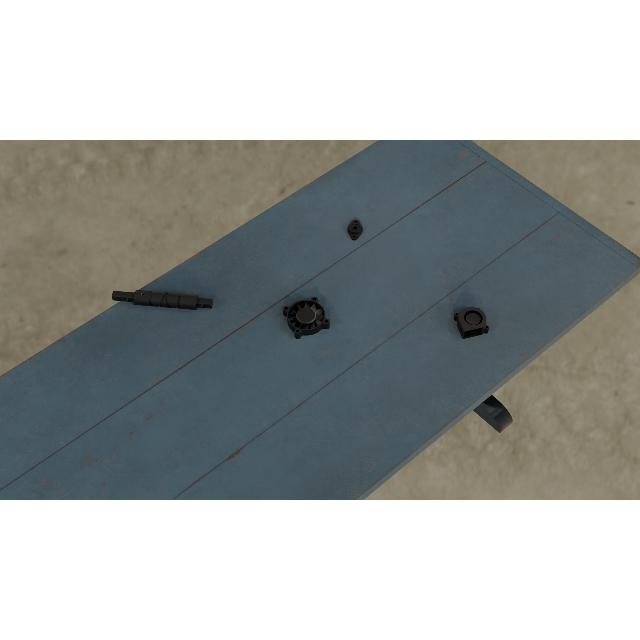Pieza1: (110, 286, 214, 314)
Pieza2: (346, 218, 364, 240)
Pieza3: (452, 304, 492, 340)
Pieza4: (281, 296, 331, 340)
